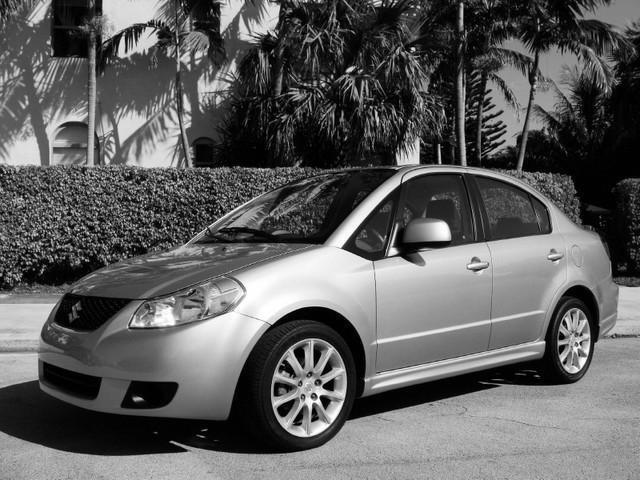car: (35, 162, 624, 456)
